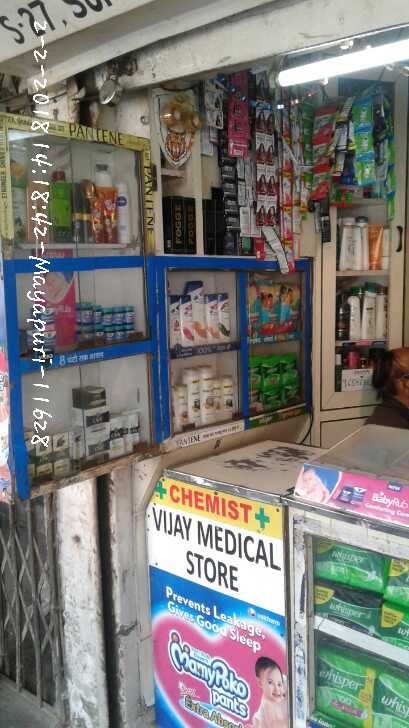vicks: (76, 297, 139, 350)
